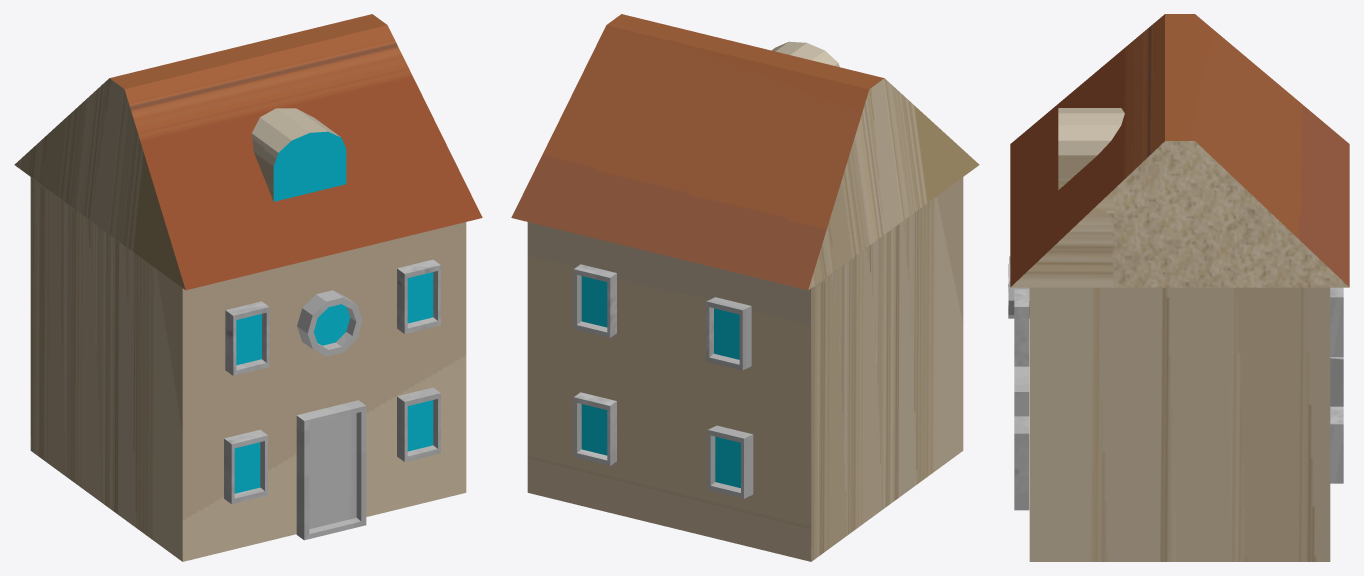
The model's file is House.fbx.
The picture shows the model from 3 angles, left to right: view 1: azimuth 30°, elevation 25°; view 2: azimuth 150°, elevation 25°; view 3: azimuth 270°, elevation 25°; orthographic projection.
Visible parts, largest first — view 1: pCube14; view 2: pCube14; view 3: pCube14.
Part boxes in pixels (bbox=[...]): pCube14: bbox=[14, 14, 482, 561]; pCube14: bbox=[511, 14, 979, 561]; pCube14: bbox=[1008, 14, 1349, 561].
Bounding box in the file's own units: 6.44 × 8.72 × 6.48.
